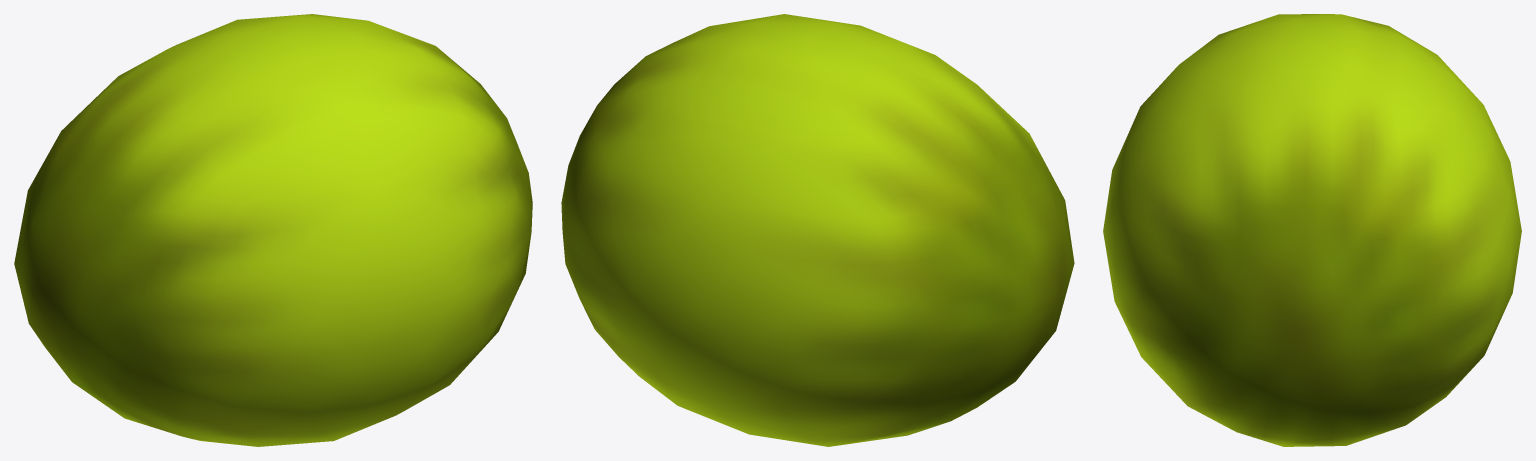
The model's file is egg.obj.
3 views of the same model, side by side, from view 1: azimuth 30°, elevation 25°; view 2: azimuth 150°, elevation 25°; view 3: azimuth 270°, elevation 25° (orthographic). The views are drawn at different scales.
Parts seen in each view (by area): view 1: ColobotMesh_1_ColobotMesh_; view 2: ColobotMesh_1_ColobotMesh_; view 3: ColobotMesh_1_ColobotMesh_.
Boxes of the visible parts, left/top/right/bottom form: ColobotMesh_1_ColobotMesh_: left=14, top=14, right=532, bottom=446; ColobotMesh_1_ColobotMesh_: left=561, top=14, right=1074, bottom=446; ColobotMesh_1_ColobotMesh_: left=1103, top=14, right=1521, bottom=446.
Size of the model in its own units: 7.69 by 6 by 6.05.
